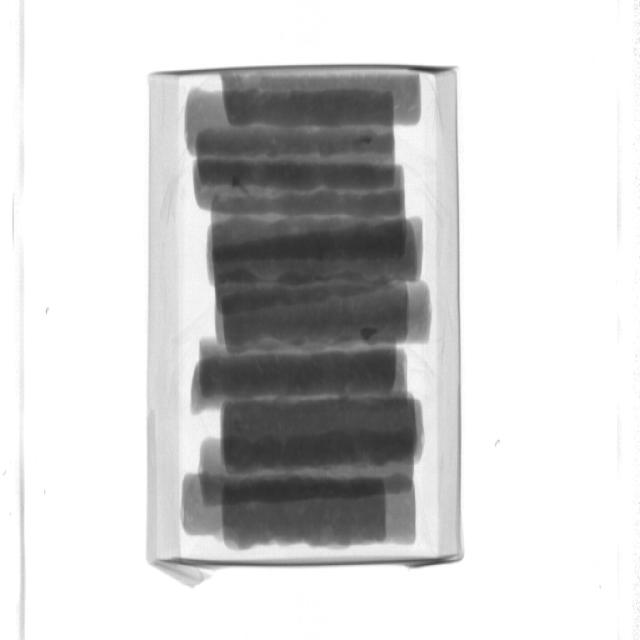ym: (234, 176, 253, 195), (360, 327, 378, 342), (352, 137, 374, 146)
